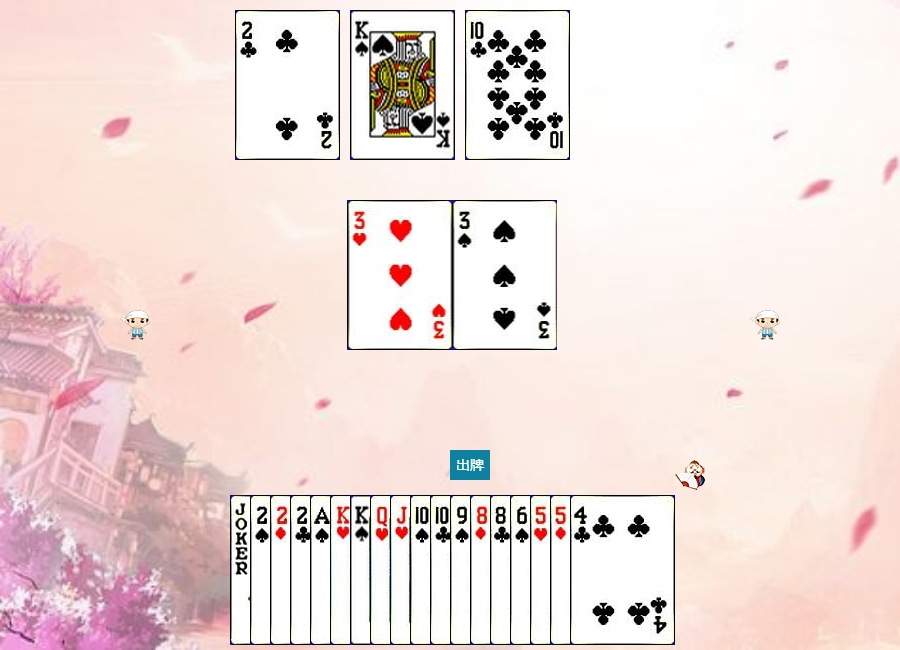10~2: (465, 10, 570, 160), (430, 495, 535, 645)
10~4: (410, 495, 515, 645)
11~3: (390, 495, 495, 645)
12~3: (370, 495, 475, 645)
13~3: (330, 495, 435, 645)
13~4: (350, 10, 455, 160), (350, 495, 455, 645)
14~4: (310, 495, 415, 645)
15~1: (270, 495, 375, 645)
15~2: (235, 10, 340, 160), (290, 495, 395, 645)
15~4: (250, 495, 355, 645)
17~3: (230, 495, 335, 645)
3~3: (348, 200, 453, 350)
3~4: (453, 200, 558, 350)
4~2: (570, 495, 675, 645)
5~1: (550, 495, 655, 645)
5~3: (530, 495, 635, 645)
6~4: (510, 495, 615, 645)
8~1: (470, 495, 575, 645)
8~2: (490, 495, 595, 645)
9~4: (450, 495, 555, 645)
